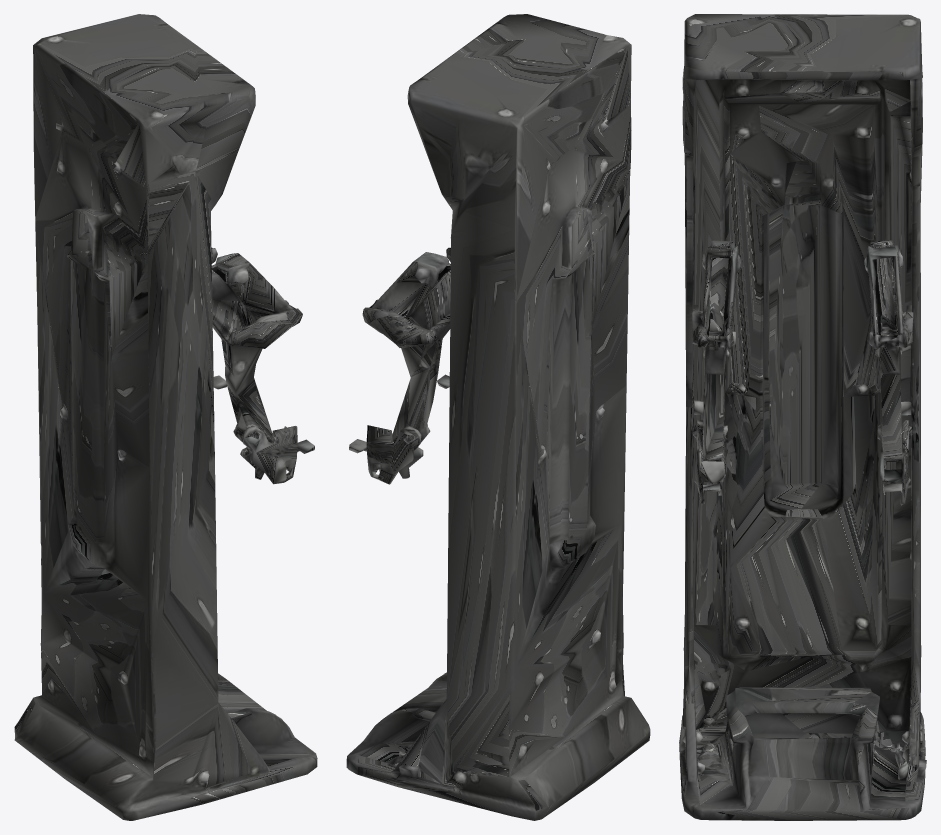
The model's file is charge_dock.glb.
3 views of the same model, side by side, from view 1: azimuth 30°, elevation 25°; view 2: azimuth 150°, elevation 25°; view 3: azimuth 270°, elevation 25° (orthographic). The views are drawn at different scales.
Visible parts, largest first — view 1: tripo_node_599bbc82-b32c-4834-9d40-6b64b566de39; view 2: tripo_node_599bbc82-b32c-4834-9d40-6b64b566de39; view 3: tripo_node_599bbc82-b32c-4834-9d40-6b64b566de39.
Boxes of the visible parts, left/top/right/bottom form: tripo_node_599bbc82-b32c-4834-9d40-6b64b566de39: left=14, top=14, right=317, bottom=820; tripo_node_599bbc82-b32c-4834-9d40-6b64b566de39: left=346, top=14, right=650, bottom=820; tripo_node_599bbc82-b32c-4834-9d40-6b64b566de39: left=679, top=14, right=926, bottom=820.
Bounding box in the file's own units: 0.3047 × 0.9996 × 0.3108.
Materials: 1 (1 with a texture image).
